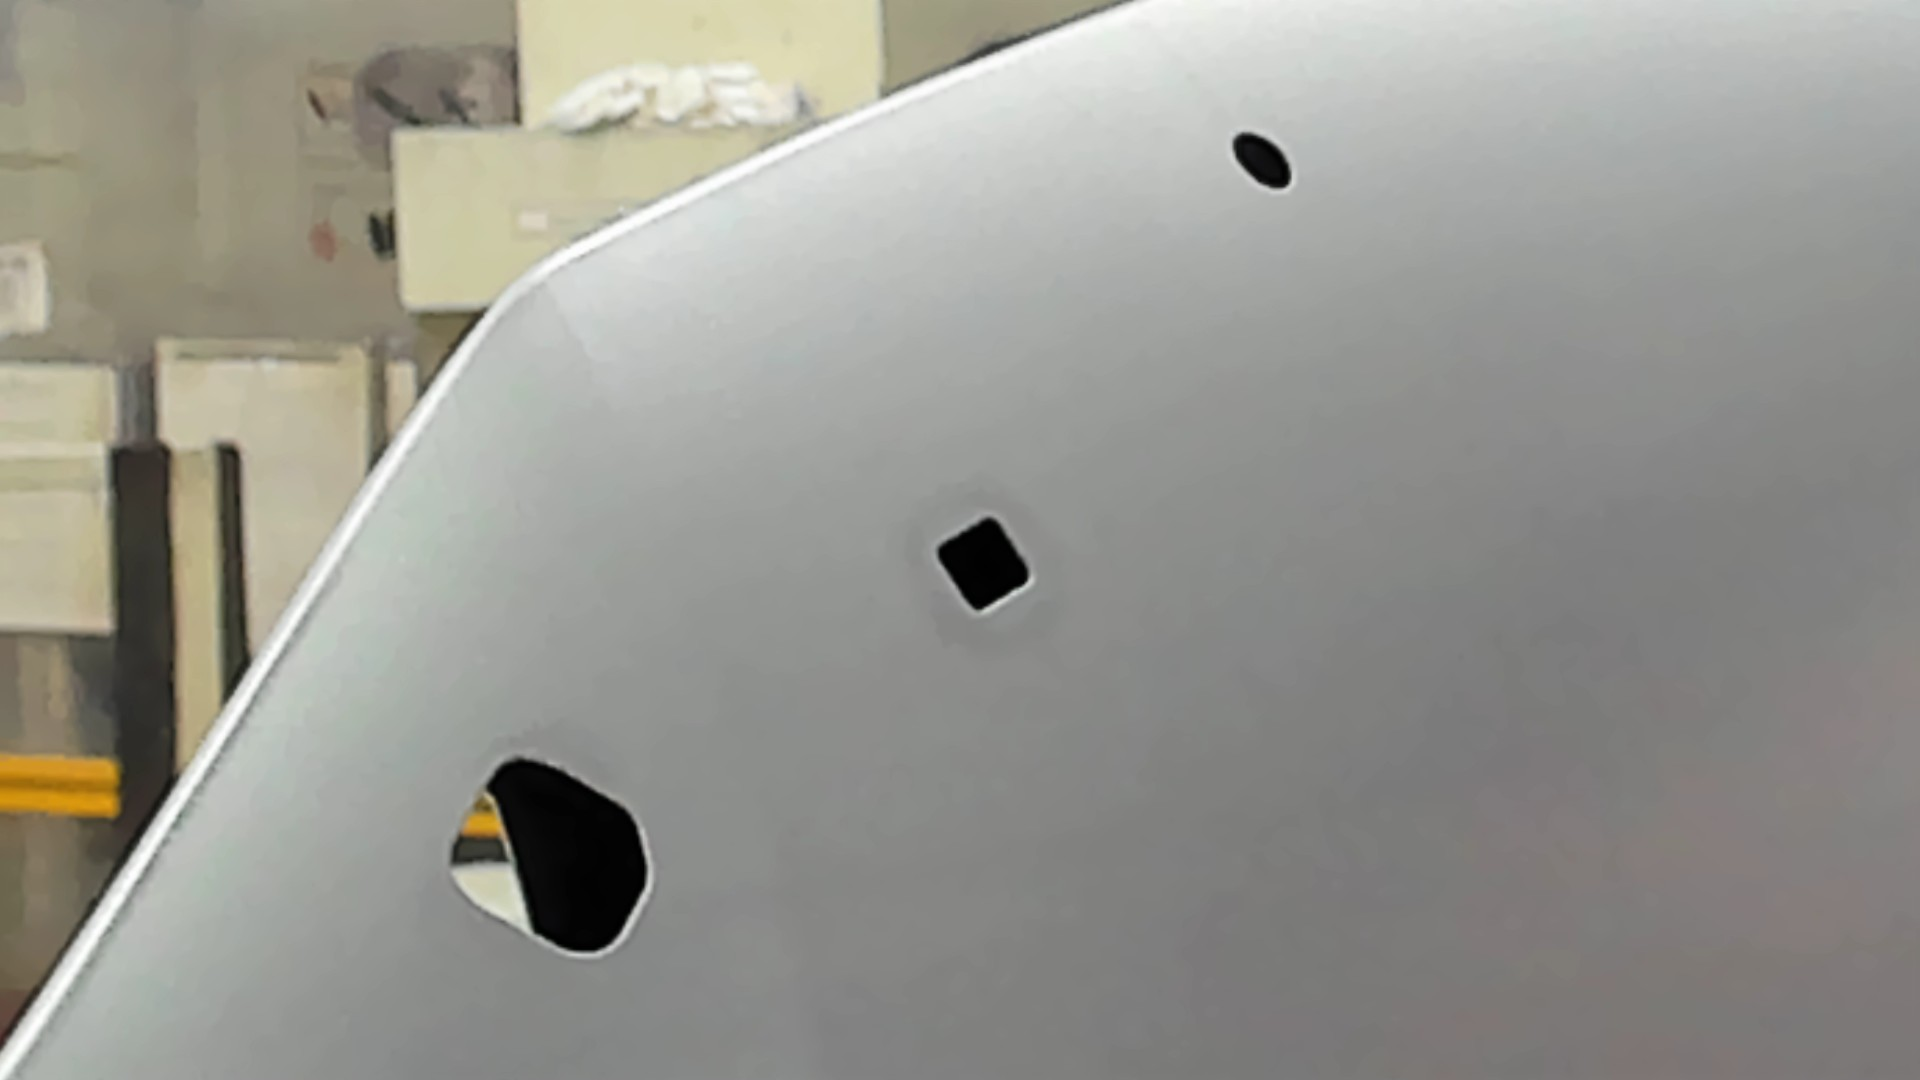chico: (1226, 124, 1298, 194)
grande: (439, 746, 665, 972)
mediano: (927, 509, 1039, 622)
